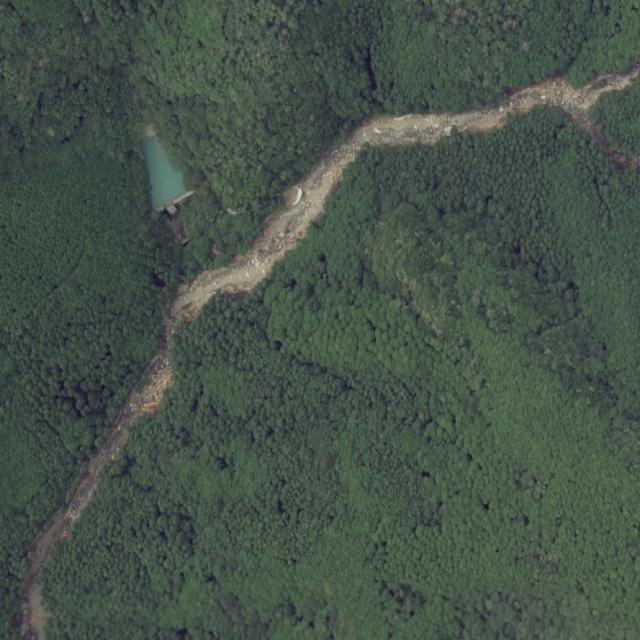landslide: (20, 64, 640, 640)
